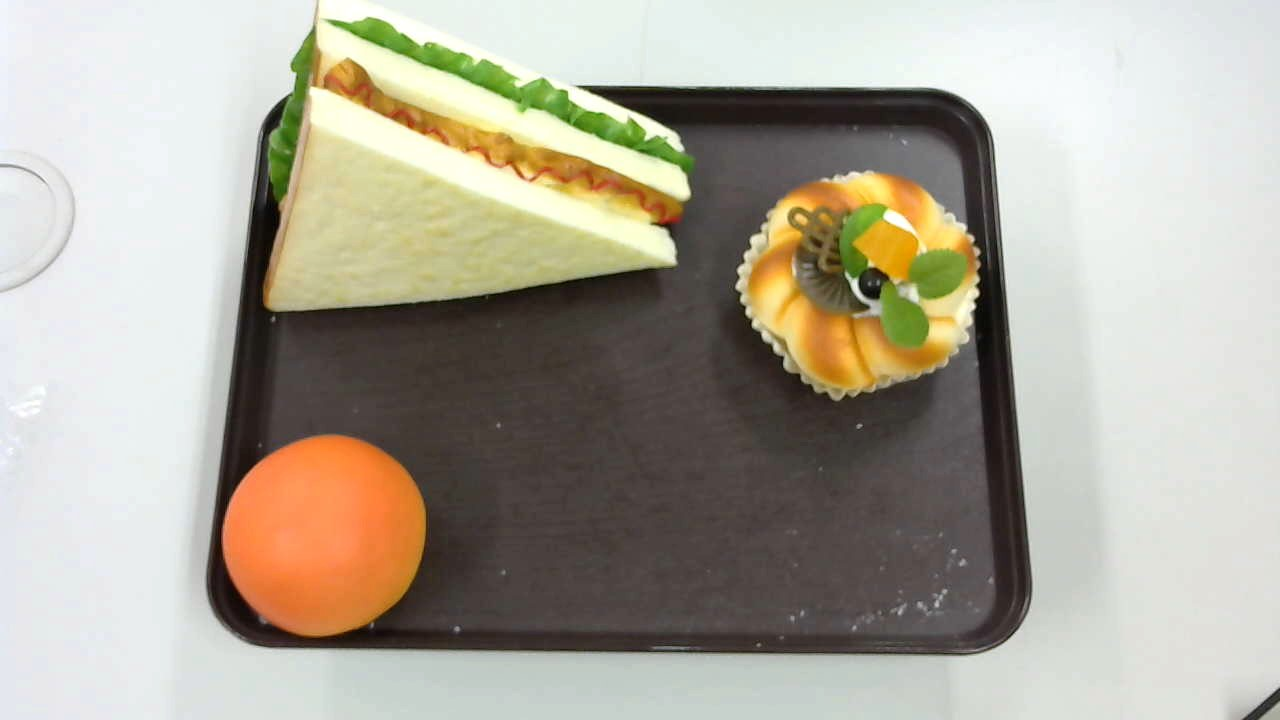bun: (221, 432, 427, 639)
fruit tart: (737, 170, 982, 401)
sandwich: (258, 5, 695, 313)
